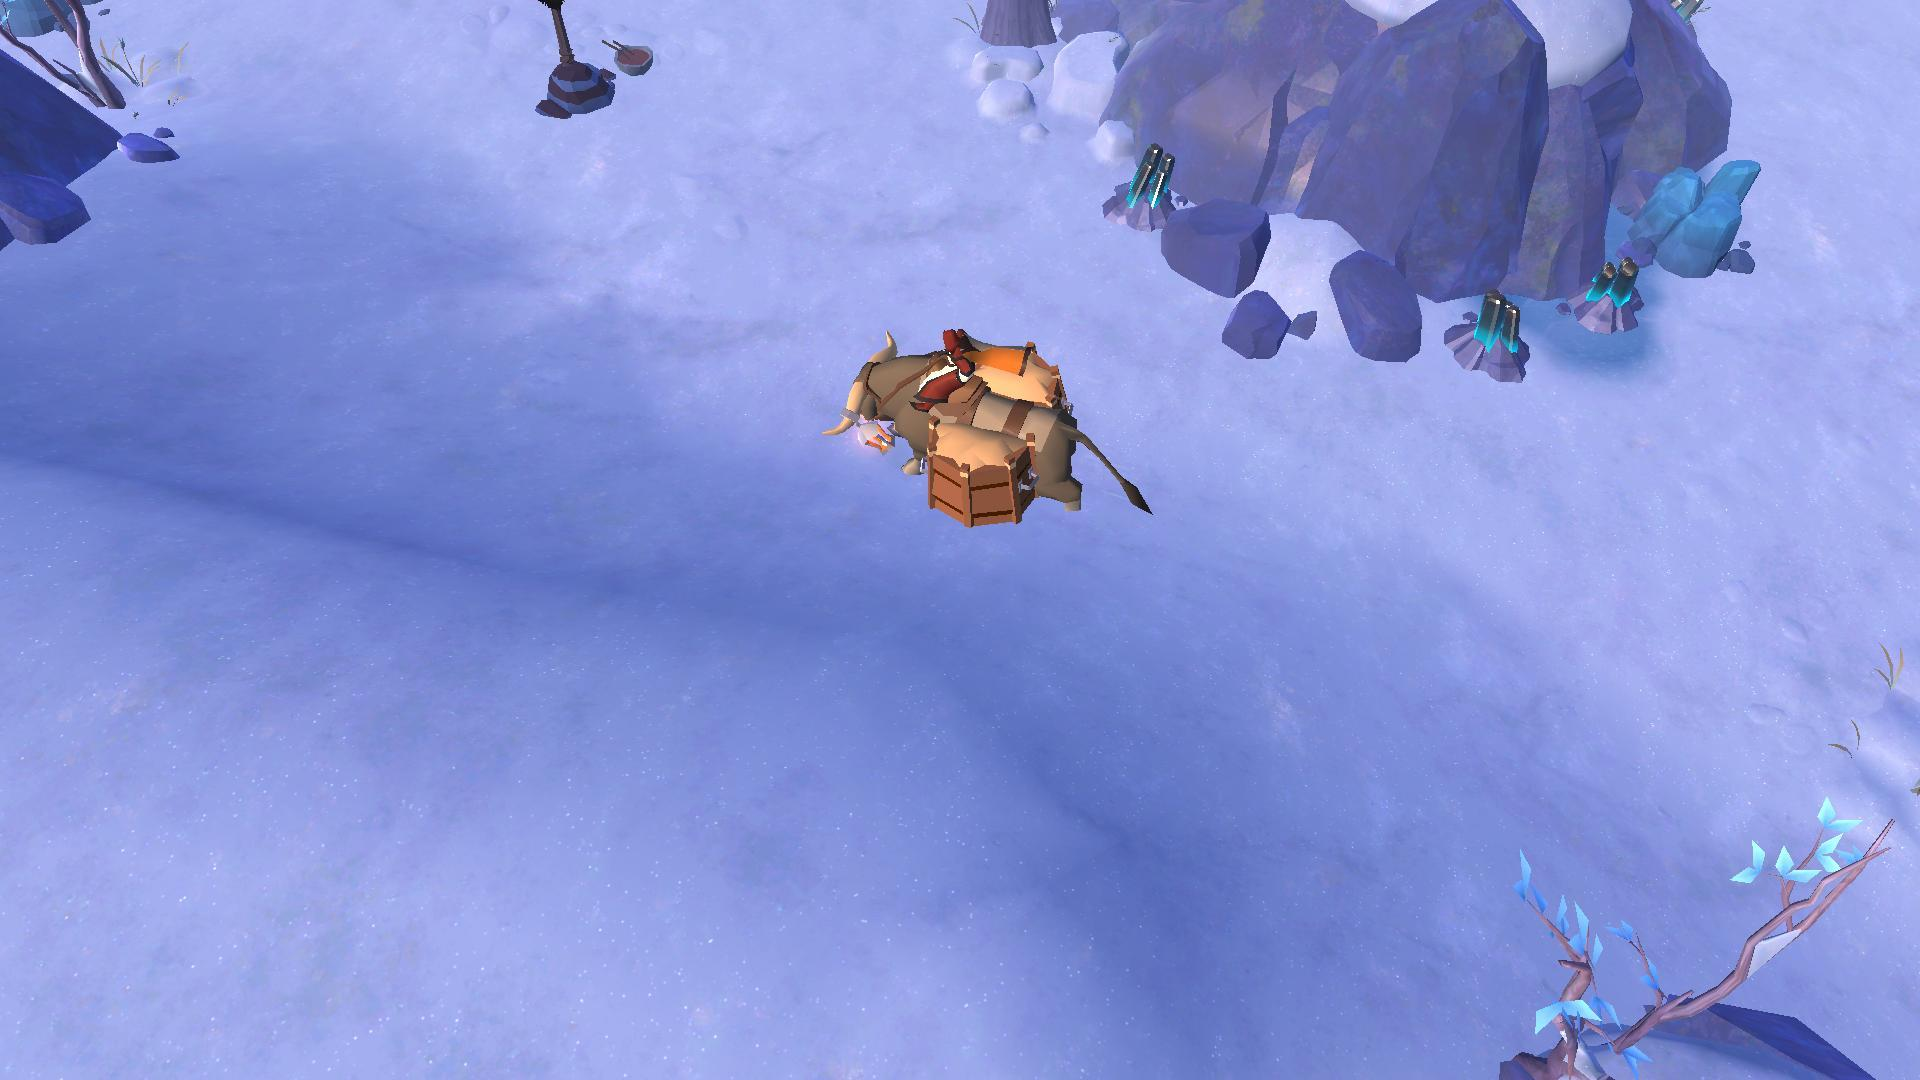ore_t4: (1121, 138, 1175, 227), (1464, 286, 1524, 357), (1588, 249, 1640, 315)
rock_t4: (1623, 157, 1758, 281)
